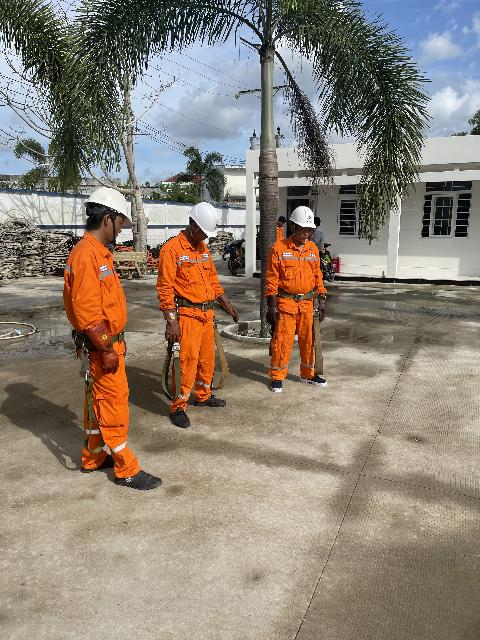gloves: (80, 318, 125, 380), (213, 291, 246, 322), (161, 303, 184, 347), (260, 289, 283, 327), (318, 287, 330, 325)
harness: (171, 285, 221, 318), (70, 323, 125, 349), (272, 280, 323, 304)
helmet: (75, 176, 137, 229), (185, 198, 226, 241), (283, 203, 323, 237)
shoes: (106, 460, 168, 497), (78, 448, 121, 478), (163, 401, 193, 433), (194, 388, 233, 410), (298, 372, 329, 388), (267, 375, 291, 392)
